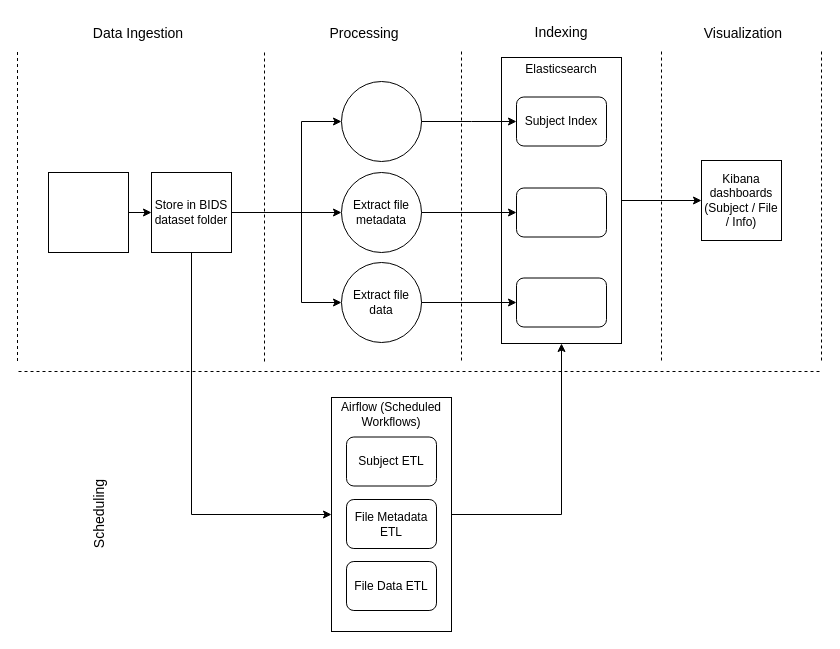
The diagram is 840 pixels wide and 649 high, and some of its shapes have lost their labels. Each missing label, with the centre of its shape:
Extract subject data: point (381, 121)
File Data Index: point (561, 302)
File Metadata Index: point (561, 212)
Upload via Flask UI: point (88, 212)
